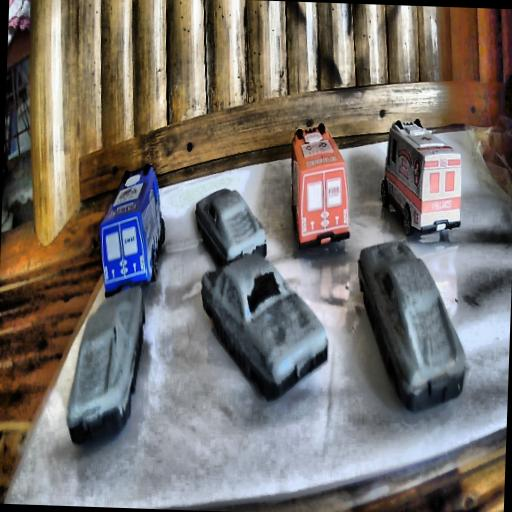ambulance: (379, 116, 464, 238)
fire_truck: (285, 121, 353, 252)
normal_car: (196, 246, 330, 404), (352, 240, 472, 414), (64, 282, 146, 448), (193, 186, 268, 268)
police car: (96, 161, 168, 297)
